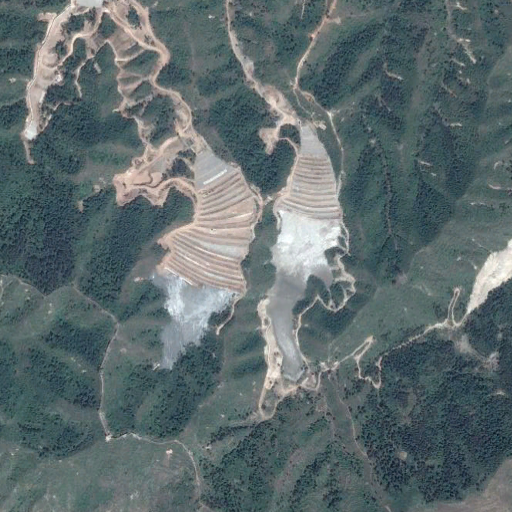tp: (154, 148, 264, 370), (269, 124, 343, 386)
